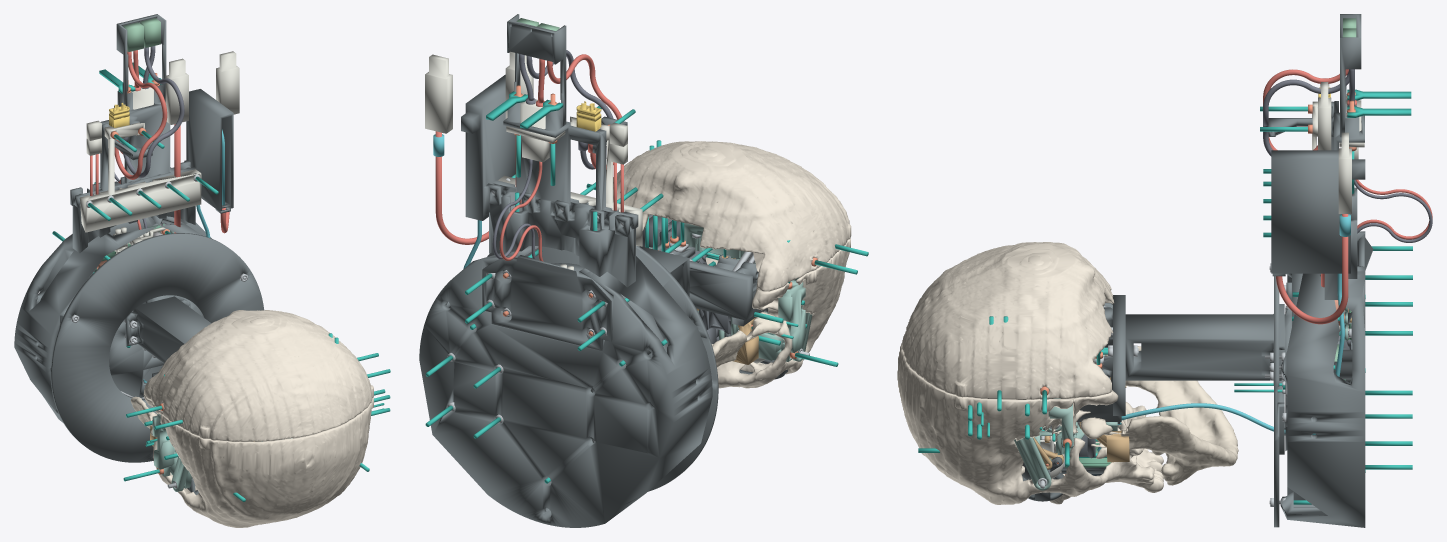
3 views of the same model, side by side, from view 1: azimuth 30°, elevation 25°; view 2: azimuth 150°, elevation 25°; view 3: azimuth 270°, elevation 25° (orthographic). The views are drawn at different scales.
Parts seen in each view (by area): view 1: Part074, Part002, Part073, CableSaddle, Part000, CableGate, Part010, Part007, CameraUSB, ControlUSB, A4W6, A4W7 (+4 smaller); view 2: Part000, Part074, CableSaddle, HubHolder, Part073, Part011, Part002, CameraUSB, Part019, CableGate, Jaw_30_moving_jaw, Part010 (+13 smaller); view 3: Part074, Part000, Part073, CableSaddle, Part010, Jaw_30_moving_jaw, Part011, Part002, EatonCableNeutral, RearLead3_1, CameraUSB, Part027 (+6 smaller).
Part boxes in pixels (box(x1,y1,x2,y2)): Part074: box(144, 310, 373, 441); Part002: box(50, 233, 264, 462); Part073: box(143, 393, 373, 527); CableSaddle: box(70, 14, 233, 253); Part000: box(14, 216, 211, 422); CableGate: box(80, 122, 201, 232); Part010: box(125, 296, 211, 363); Part007: box(109, 295, 202, 397); CameraUSB: box(216, 51, 239, 114); ControlUSB: box(165, 58, 188, 124); A4W6: box(114, 51, 167, 179); A4W7: box(122, 47, 184, 177); Part000: box(419, 246, 712, 527); Part074: box(613, 141, 851, 291); CableSaddle: box(461, 14, 638, 287); HubHolder: box(482, 255, 613, 350); Part073: box(705, 238, 850, 388); Part011: box(639, 241, 768, 326); Part002: box(487, 246, 718, 491); CameraUSB: box(425, 54, 452, 133); Part019: box(739, 250, 805, 361); CableGate: box(498, 116, 642, 246); Jaw_30_moving_jaw: box(712, 311, 780, 367); Part010: box(640, 246, 689, 296); Part074: box(902, 242, 1114, 399); Part000: box(1280, 231, 1365, 527); Part073: box(897, 303, 1163, 504); CableSaddle: box(1268, 14, 1365, 299); Part010: box(1125, 314, 1285, 385); Jaw_30_moving_jaw: box(1080, 346, 1238, 485); Part011: box(1043, 295, 1125, 432); Part002: box(1274, 276, 1284, 527); EatonCableNeutral: box(1121, 273, 1344, 434); RearLead3_1: box(1276, 214, 1348, 324); CameraUSB: box(1338, 132, 1351, 213); Part027: box(1014, 437, 1051, 490).
Size of the model in its own units: 219 by 344 by 335.
